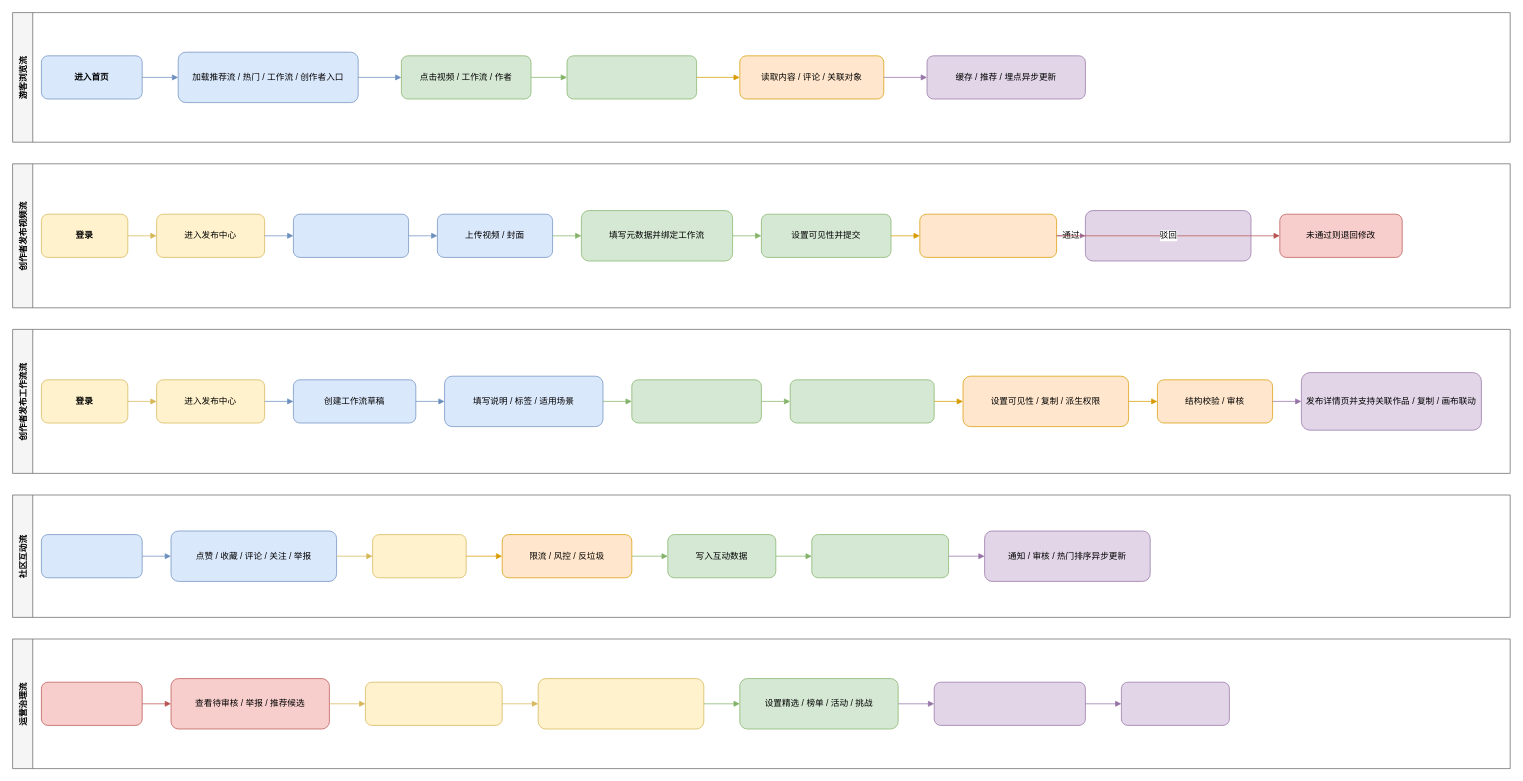
Image size: 1523x781. Some labels were removed from this diagram. The shapes that lost their labels are listed below. From the top down, each one's centre as x and y in pixels, then its label:
At point (631, 77): "进入详情页或作者页".
At point (351, 235): "创建作品草稿".
At point (988, 235): "转码 / 预览生成 / 审核".
At point (1168, 235): "通过后写入详情页 / 作者页 / Feed".
At point (696, 401): "上传封面 / 示例资源".
At point (861, 401): "绑定画布工作流 / 引用".
At point (91, 556): "进入详情页".
At point (419, 556): "鉴权校验".
At point (880, 556): "更新计数与用户状态".
At point (91, 703): "进入后台".
At point (433, 703): "审核作品 / 工作流 / 评论".
At point (620, 703): "通过 / 驳回 / 下线 / 调整可见性".
At point (1009, 703): "同步前台展示与缓存失效".
At point (1175, 703): "记录审计日志".
